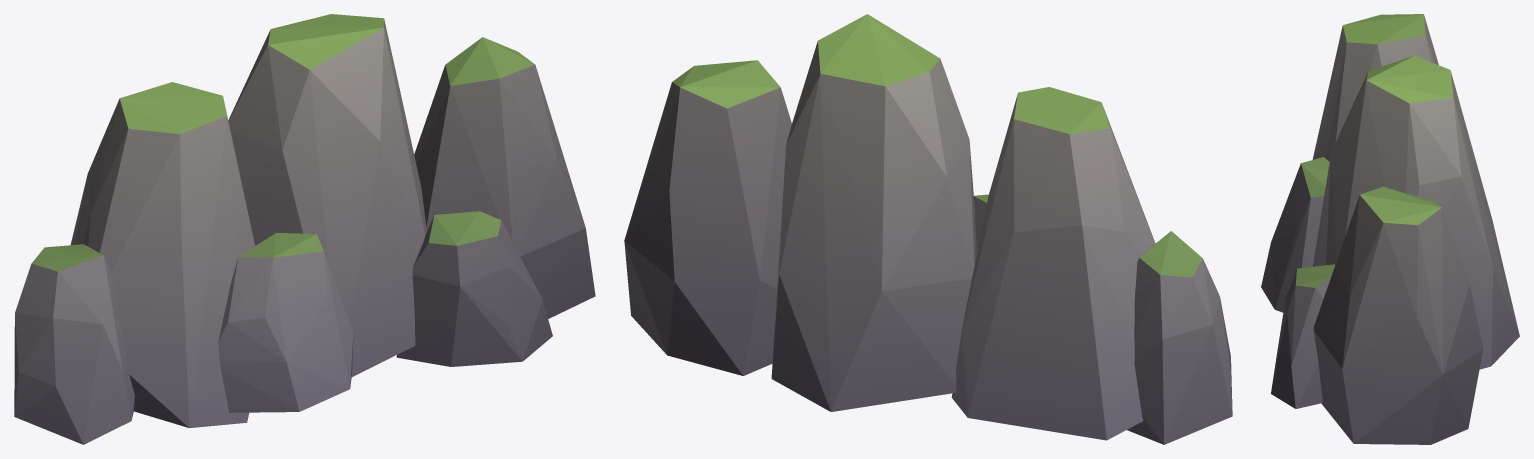
Rendered from cliff_b.glb.
3 renders of one model, left to right at view 1: azimuth 30°, elevation 25°; view 2: azimuth 150°, elevation 25°; view 3: azimuth 270°, elevation 25°, orthographic. The views are drawn at different scales.
Parts seen in each view (by area): view 1: cliff_b; view 2: cliff_b; view 3: cliff_b.
Part boxes in pixels (x1,y1,x2,y2): cliff_b: [14, 14, 595, 444]; cliff_b: [624, 14, 1232, 444]; cliff_b: [1261, 14, 1519, 444].
Bounding box in the file's own units: 17.69 × 9.74 × 7.91.
